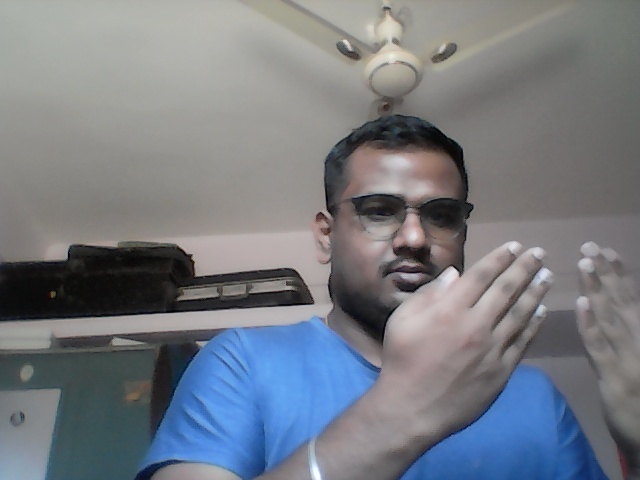Thank You: (379, 240, 640, 442)
